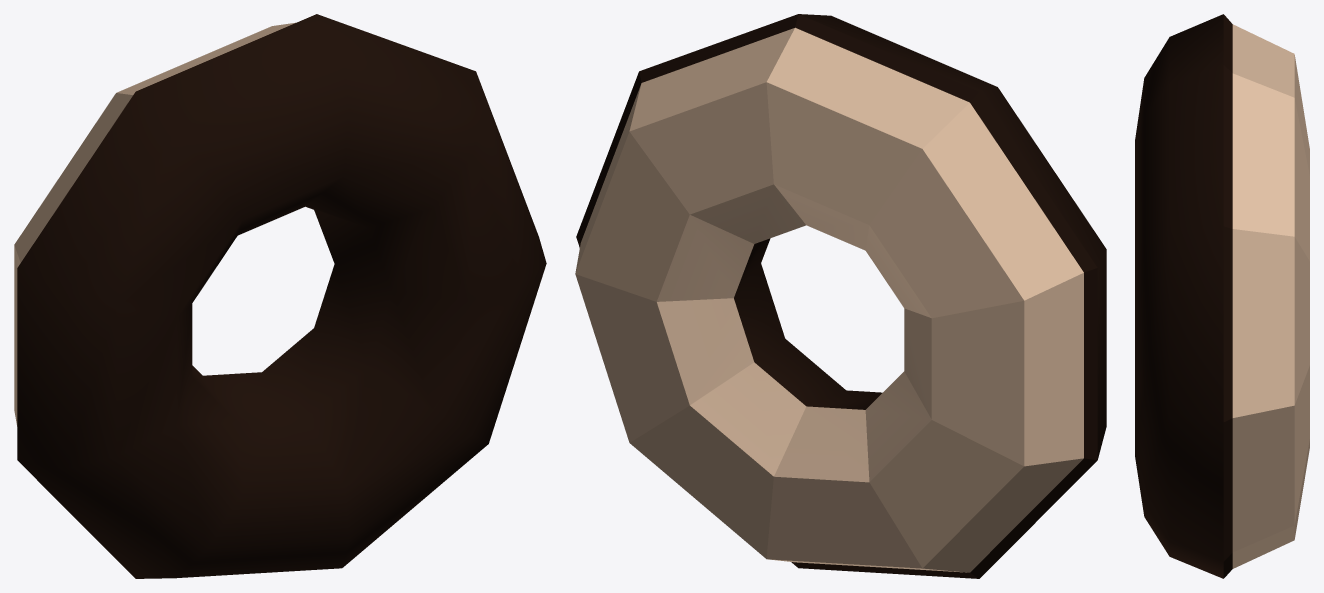
File: Simple_Donut.obj
3 renders of one model, left to right at view 1: azimuth 30°, elevation 25°; view 2: azimuth 150°, elevation 25°; view 3: azimuth 270°, elevation 25°, orthographic. The views are drawn at different scales.
Parts seen in each view (by area): view 1: Simple_Donut; view 2: Simple_Donut; view 3: Simple_Donut.
Boxes of the visible parts, x1=… form: Simple_Donut: x1=14, y1=14, x2=546, y2=578; Simple_Donut: x1=575, y1=14, x2=1106, y2=578; Simple_Donut: x1=1135, y1=14, x2=1309, y2=578.
Bounding box in the file's own units: 0.1513 × 0.1536 × 0.0474.
